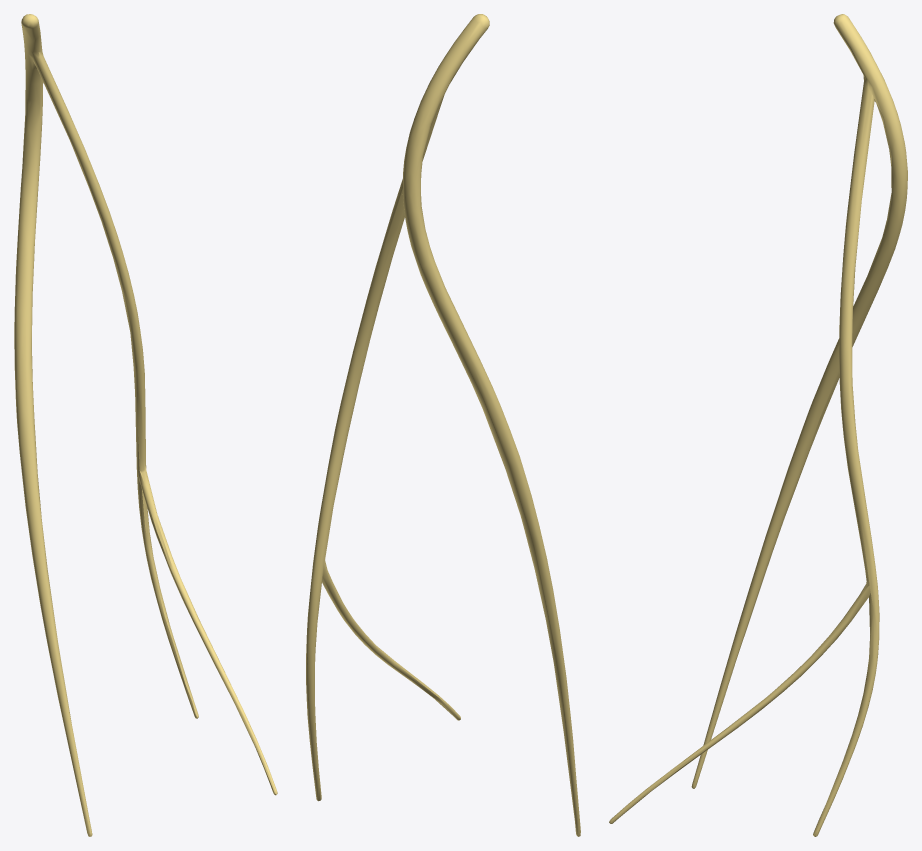
File: fma52937_fj3975.glb
3 views of the same model, side by side, from view 1: azimuth 30°, elevation 25°; view 2: azimuth 150°, elevation 25°; view 3: azimuth 270°, elevation 25° (orthographic). The views are drawn at different scales.
Visible parts, largest first — view 1: FMA52937_FJ3975; view 2: FMA52937_FJ3975; view 3: FMA52937_FJ3975.
Part boxes in pixels (<box>): FMA52937_FJ3975: <box>14,14,277,836</box>; FMA52937_FJ3975: <box>306,14,580,836</box>; FMA52937_FJ3975: <box>609,14,907,836</box>.
Bounding box in the file's own units: 0.00954 × 0.0378 × 0.0131.
